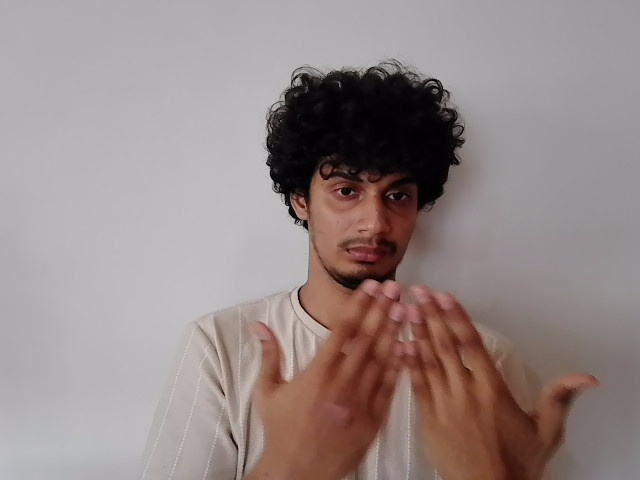thankyou: (242, 271, 605, 480)
